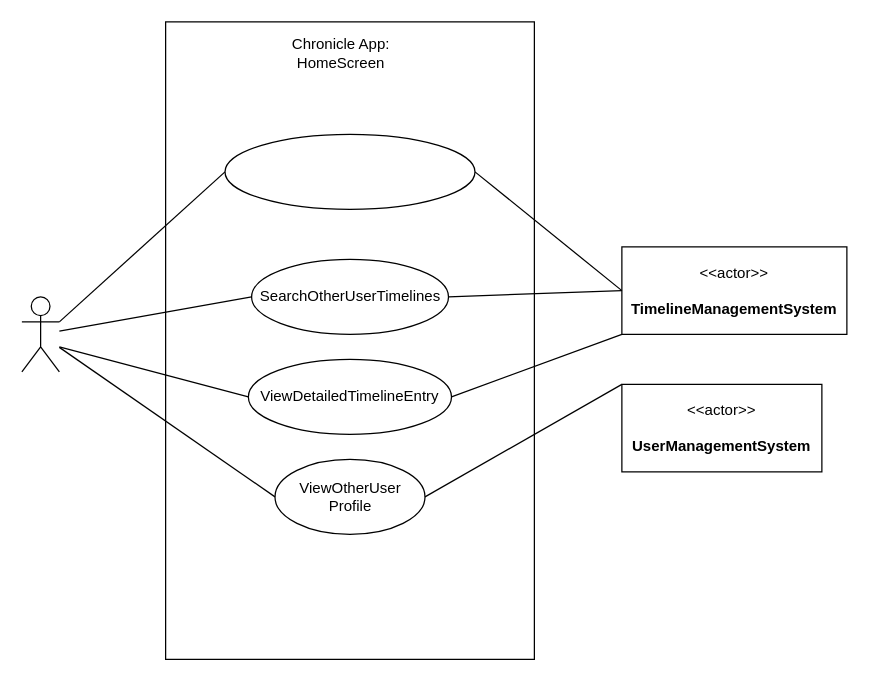
This 869x681 diagram has some shape labels left out. Here are the shapes that lost their labels. From the top down, the centre of each, then its label:
(x=349, y=171): ViewTimelineReel
(x=40, y=334): User
